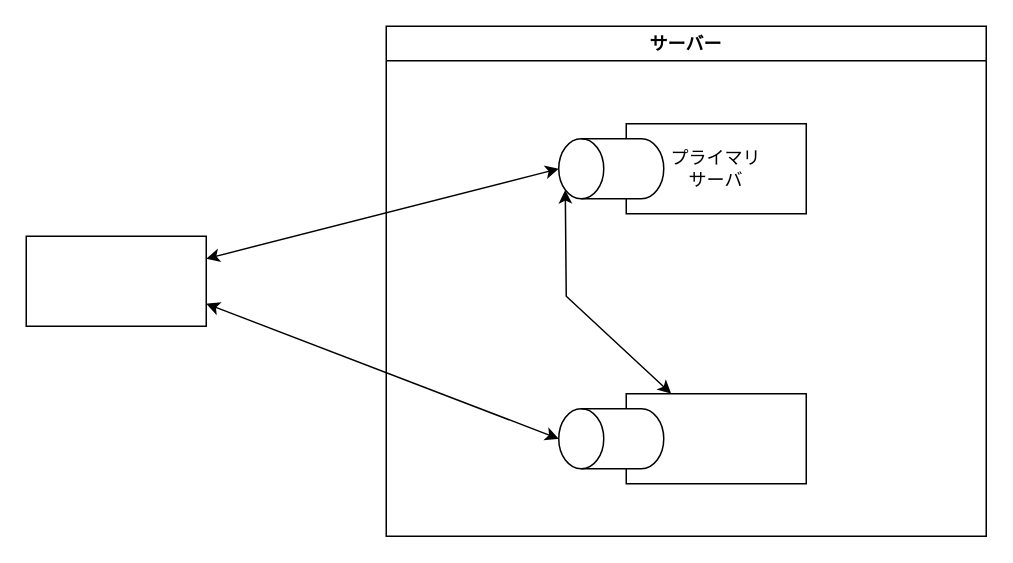
Some shapes in this 1013 by 563 pixel diagram are drawn without their labels. The shapes that lost their labels are listed below. From the top down, each one's centre as x and y in pixels, then its label:
At pixel 115 280: "クライアント".
At pixel 715 438: "スタンバイ サーバ".
